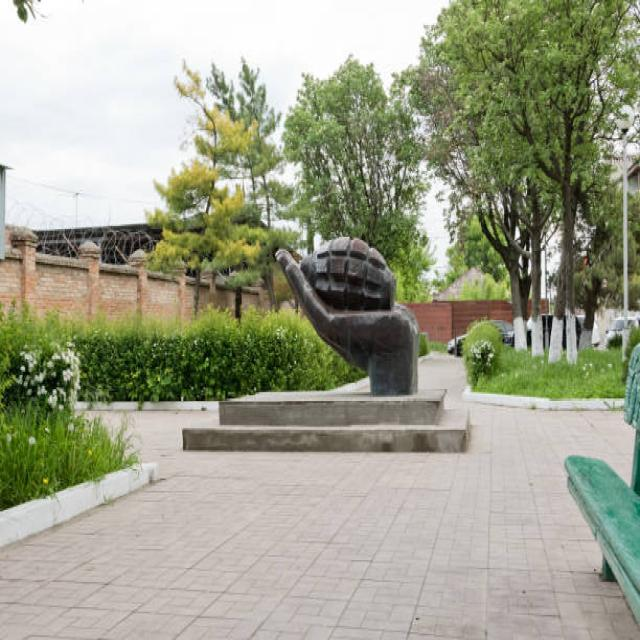grenade: (295, 238, 402, 312)
